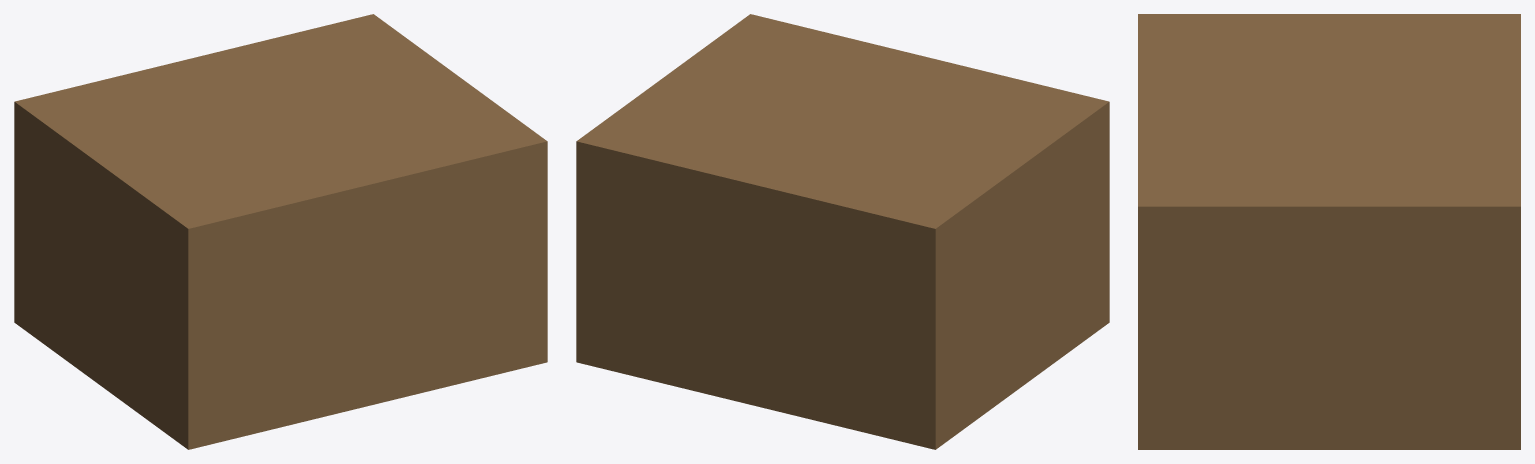
File: bone_hide_shelter_collision.glb
3 views of the same model, side by side, from view 1: azimuth 30°, elevation 25°; view 2: azimuth 150°, elevation 25°; view 3: azimuth 270°, elevation 25° (orthographic). The views are drawn at different scales.
Visible parts, largest first — view 1: bone_hide_shelter_collision; view 2: bone_hide_shelter_collision; view 3: bone_hide_shelter_collision.
Boxes of the visible parts, box(x1,y1,x2,y2) form: bone_hide_shelter_collision: box(14, 14, 547, 449); bone_hide_shelter_collision: box(576, 14, 1109, 449); bone_hide_shelter_collision: box(1138, 14, 1520, 449).
Bounding box in the file's own units: 3.16 × 1.86 × 2.65.
